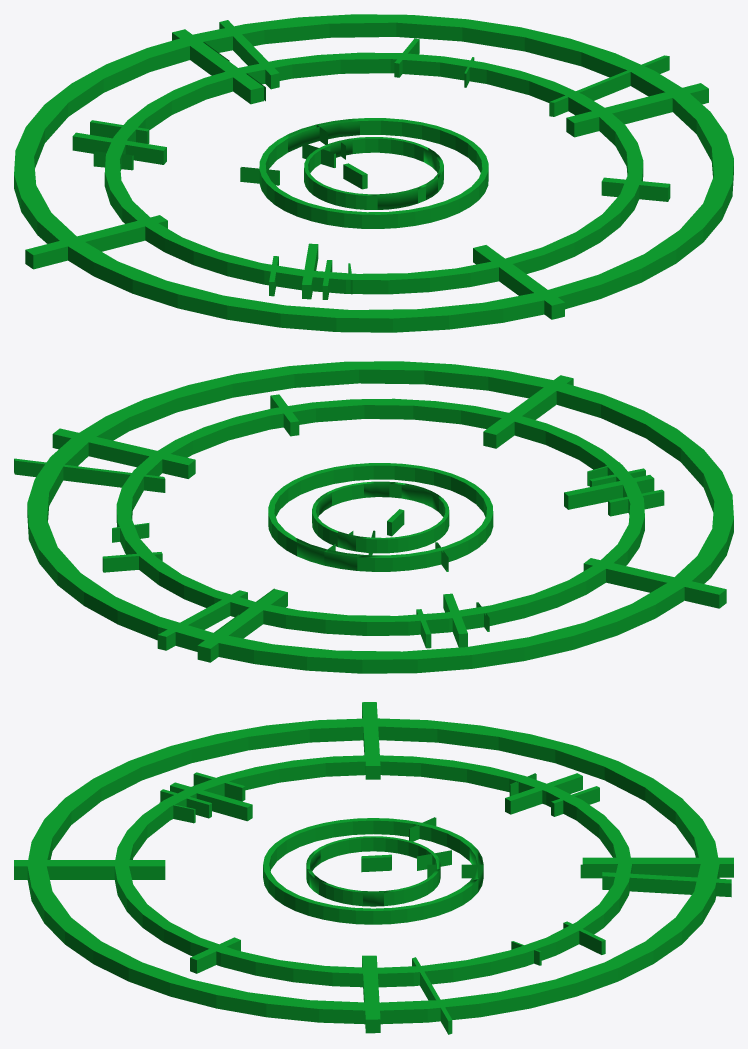
The model's file is symbol3-leuchtend.glb.
3 renders of one model, top to bottom at view 1: azimuth 30°, elevation 25°; view 2: azimuth 150°, elevation 25°; view 3: azimuth 270°, elevation 25°, orthographic. The views are drawn at different scales.
Visible parts, largest first — view 1: Plane.009; view 2: Plane.009; view 3: Plane.009.
Part boxes in pixels (x1=…): Plane.009: x1=14, y1=14, x2=733, y2=332; Plane.009: x1=14, y1=361, x2=733, y2=673; Plane.009: x1=14, y1=702, x2=733, y2=1034.
Size of the model in its own units: 2.51 by 0.05 by 2.39.
